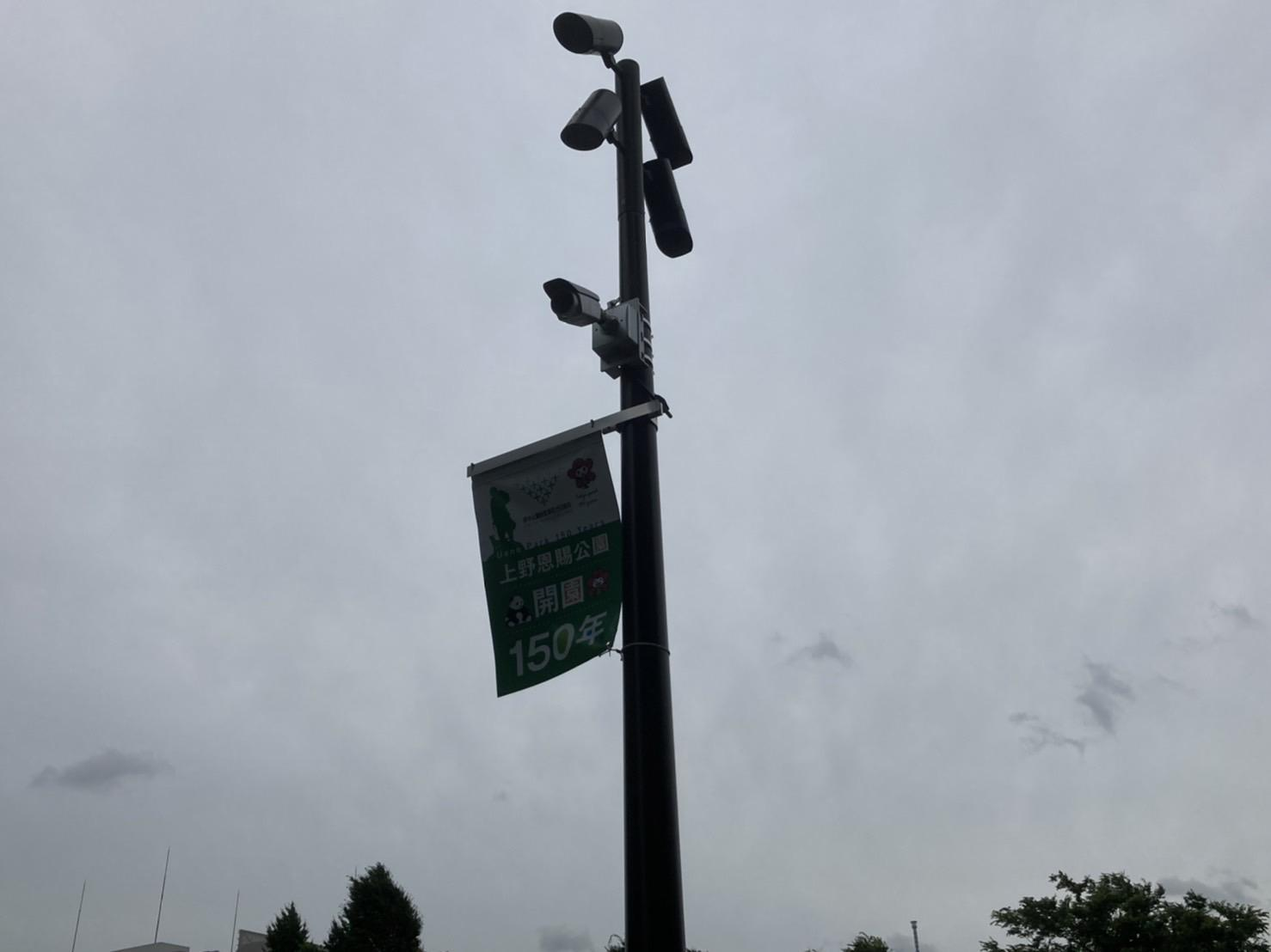tutu: (628, 156, 712, 265), (633, 67, 697, 177), (537, 273, 616, 333), (568, 86, 626, 155), (547, 14, 636, 57)
